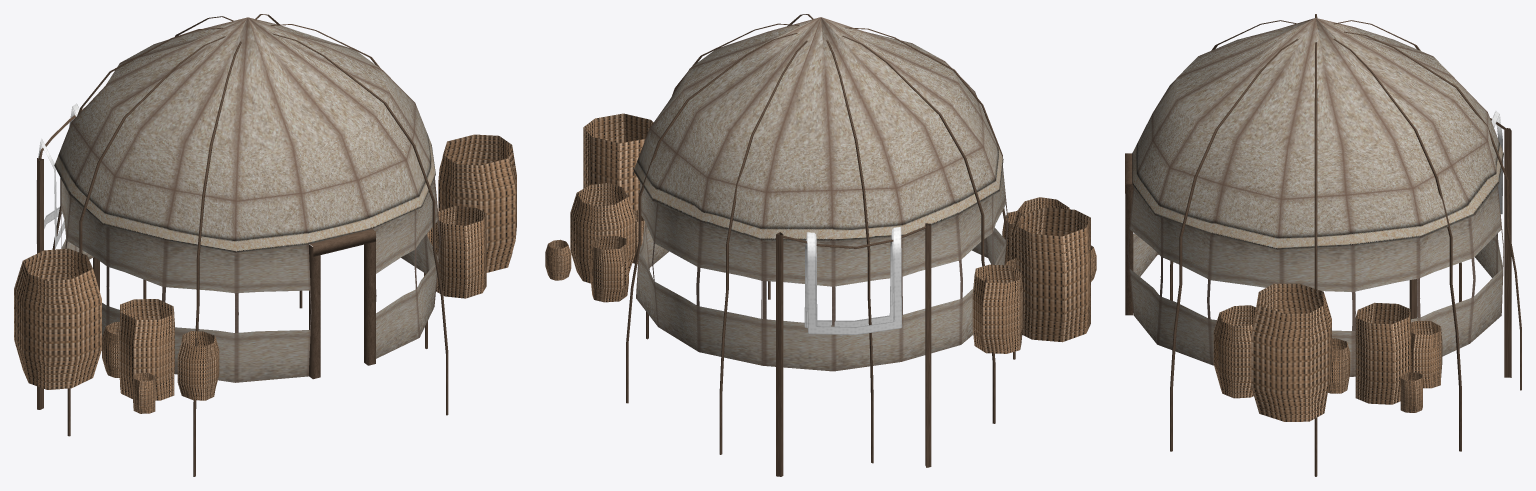
File: step_storehouse_01.dae
The picture shows the model from 3 angles, left to right: view 1: azimuth 30°, elevation 25°; view 2: azimuth 150°, elevation 25°; view 3: azimuth 270°, elevation 25°; orthographic projection. The views are drawn at different scales.
Parts seen in each view (by area): view 1: Basket-Group; view 2: Basket-Group; view 3: Basket-Group.
Boxes of the visible parts, x1,y1,x2,y2 form: Basket-Group: (14,14,516,476); Basket-Group: (545,14,1096,476); Basket-Group: (1125,14,1521,476).
Size of the model in its own units: 14.03 by 9.71 by 10.4.
